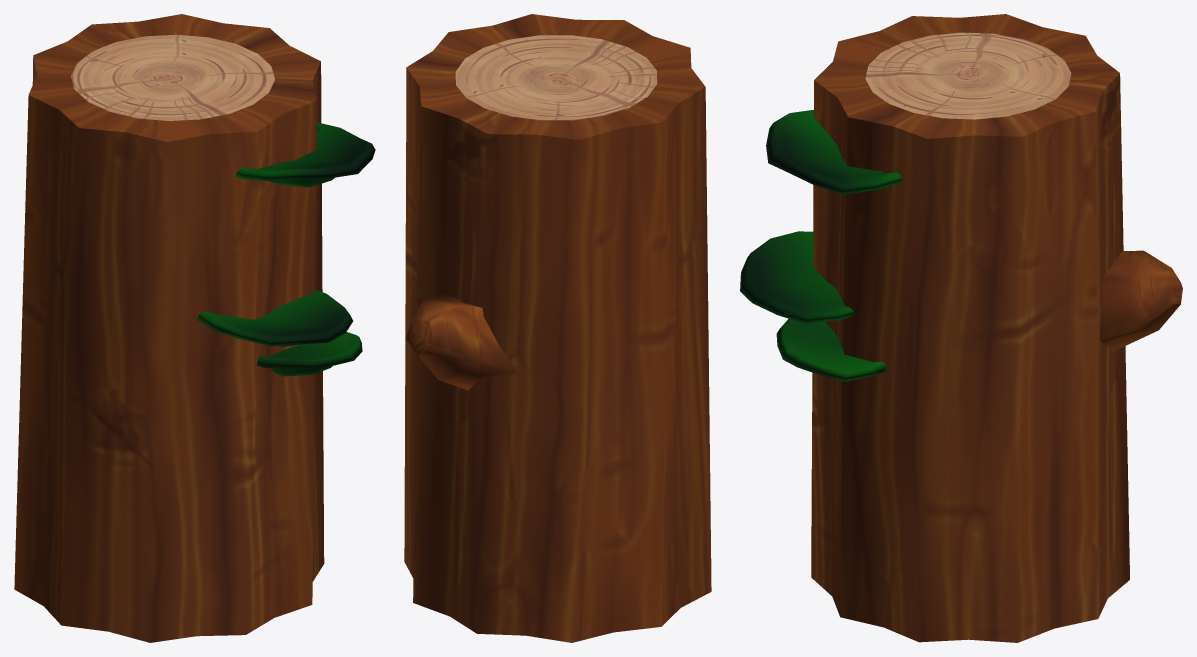
The model's file is obj_harvests_trees_pine03_p03.fbx.
3 views of the same model, side by side, from view 1: azimuth 30°, elevation 25°; view 2: azimuth 150°, elevation 25°; view 3: azimuth 270°, elevation 25° (orthographic).
Visible parts, largest first — view 1: chunk03; view 2: chunk03; view 3: chunk03.
Part boxes in pixels (x1,y1,x2,y2): chunk03: (14,14,375,642); chunk03: (404,14,711,642); chunk03: (740,14,1182,642).
Size of the model in its own units: 4.44 by 8 by 6.37.
